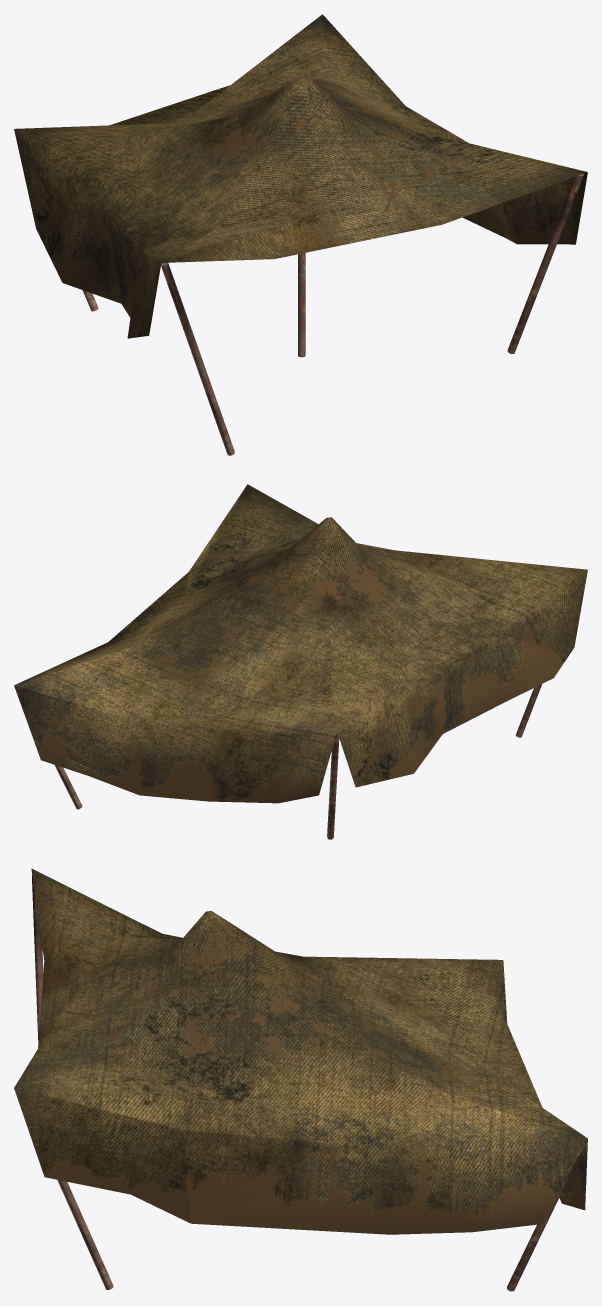
The model's file is factory house ver7.FBX.
The picture shows the model from 3 angles, top to bottom: view 1: azimuth 30°, elevation 25°; view 2: azimuth 150°, elevation 25°; view 3: azimuth 270°, elevation 25°; orthographic projection. The views are drawn at different scales.
Parts seen in each view (by area): view 1: Object010; view 2: Object010; view 3: Object010.
Boxes of the visible parts, x1,y1,x2,y2 form: Object010: (14,14,587,455); Object010: (14,484,587,839); Object010: (14,868,587,1291).
Bounding box in the file's own units: 810 × 517 × 900.
